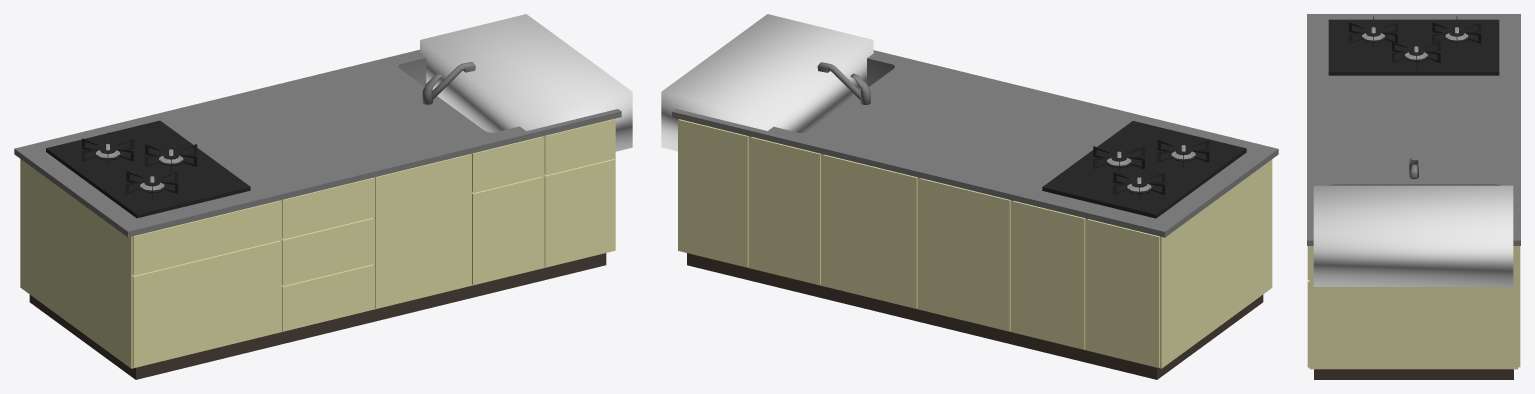
Rendered from kitchen.glb.
3 renders of one model, left to right at view 1: azimuth 30°, elevation 25°; view 2: azimuth 150°, elevation 25°; view 3: azimuth 270°, elevation 25°, orthographic. The views are drawn at different scales.
Parts seen in each view (by area): view 1: 調理台, 立方体, 立方体.001; view 2: 調理台, 立方体, 立方体.001; view 3: 調理台, 立方体, 立方体.001, 平面.001, 平面.003, 平面.002, 円柱.002, 円柱, 円柱.001.
Boxes of the visible parts, box(x1,y1,x2,y2) form: 調理台: box(14, 49, 621, 379); 立方体: box(420, 14, 632, 151); 立方体.001: box(46, 120, 250, 218); 調理台: box(672, 50, 1278, 379); 立方体: box(661, 14, 873, 151); 立方体.001: box(1042, 121, 1246, 218); 調理台: box(1307, 14, 1520, 379); 立方体: box(1313, 185, 1513, 286); 立方体.001: box(1328, 19, 1499, 75); 平面.001: box(1432, 16, 1481, 49); 平面.003: box(1391, 35, 1440, 68); 平面.002: box(1349, 16, 1398, 49); 円柱.002: box(1403, 46, 1429, 62); 円柱: box(1443, 27, 1469, 43); 円柱.001: box(1360, 27, 1386, 43).
Size of the model in its own units: 9.12 by 3.16 by 3.53.
